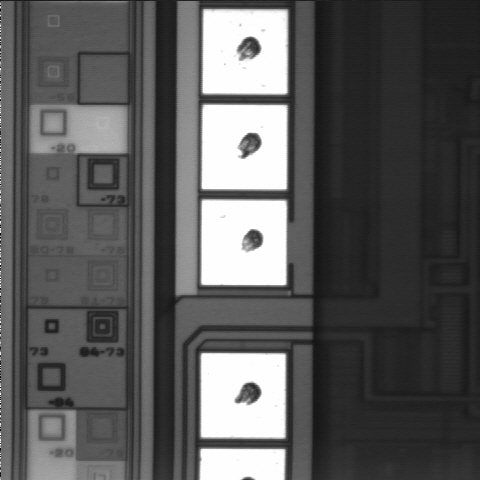pad: (201, 200, 287, 285), (201, 353, 286, 438), (203, 9, 287, 94), (202, 105, 287, 189)
